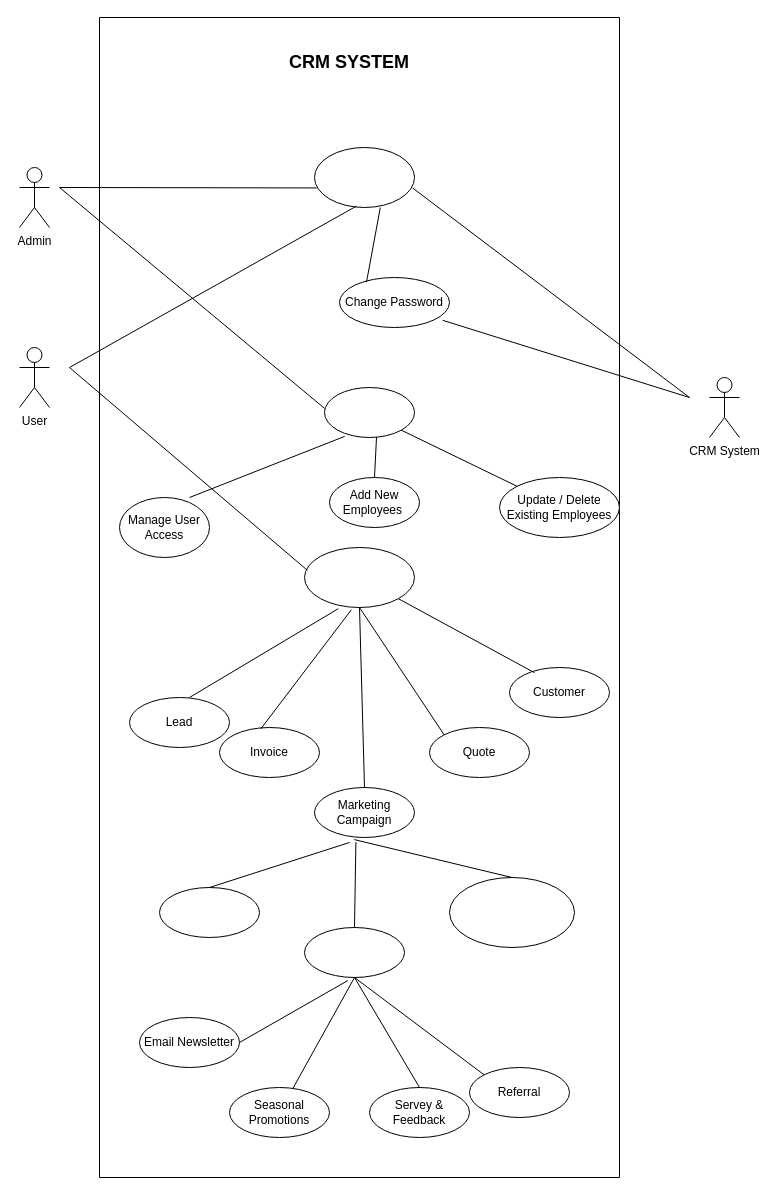
The diagram is 777 pixels wide and 1195 high, and some of its shapes have lost their labels. Here are the shapes that lost their labels. From the top down, the box of each, then its label:
(314, 146, 414, 208): Login
(324, 386, 414, 438): Administration
(304, 546, 414, 608): CRM
(158, 886, 260, 938): View / List Campaigns
(448, 876, 574, 948): Download Initiated Campaign List
(304, 926, 404, 978): Add New Campaign
